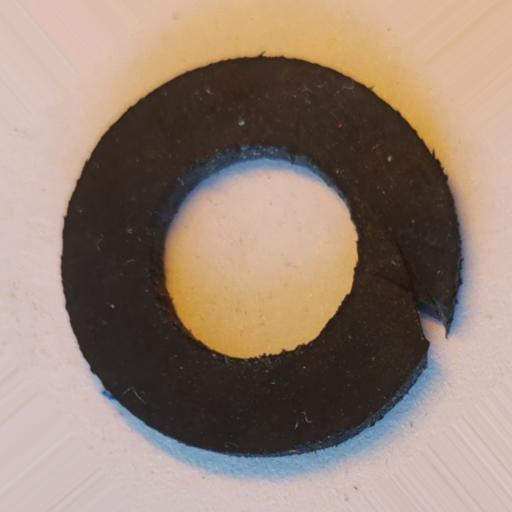defect: (368, 236, 451, 355)
